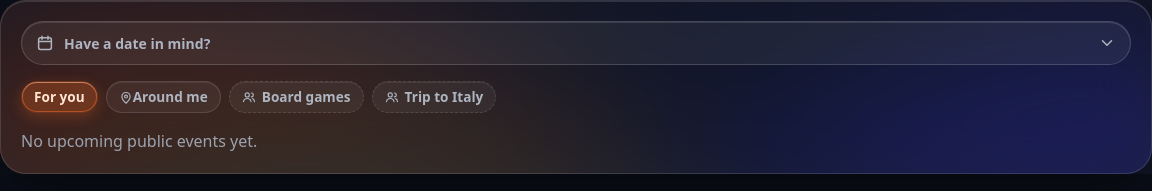
Test: friend groups in the feed › each group gets a chip that shows only that group's events
The width and height of the screenshot is (1152, 191).
Click the button with aria-label "Group: Board games" at (296, 97), box [229,81,364,113]
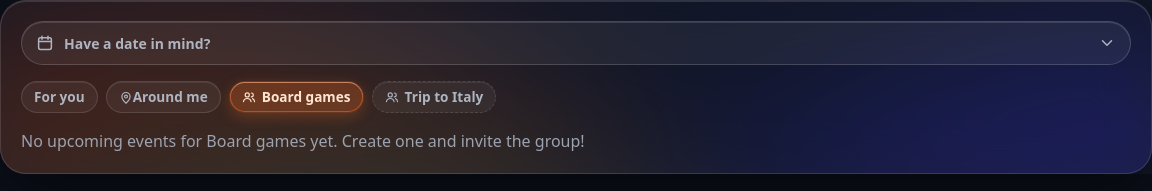
Check: the button with aria-label "Group: Trip to Italy" is shown, box [372,81,496,113]
Check: the text "No upcoming events for Board games yet" is shown, box [21,130,585,152]
